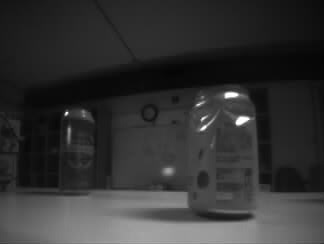Tin can: (182, 83, 260, 218), (58, 108, 96, 194)
